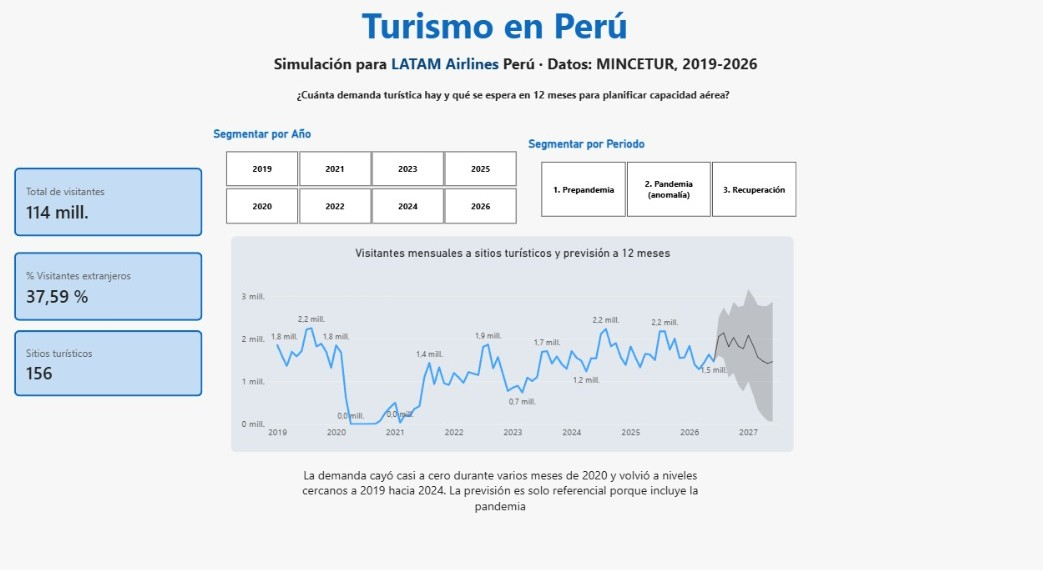

The page's visual inventory and layout, read from the dashboard file:
{"tool":"powerbi","page":{"name":"Resumen general","canvas":[1920,1080],"ordinal":0},"visuals":[{"type":"lineChart","title":"Visitantes mensuales a sitios turísticos y previsión a 12 meses","fields":{"Category":["dim_fecha.Fecha"],"Y":["Sum(Visitantes_sitios_turisticos.NUMERO_VISITANTES)"]},"box":[411.7,390,898.3,345],"z":0},{"type":"textbox","box":[620,11.7,1300,65],"z":1000},{"type":"textbox","box":[480,96.7,796.7,43.3],"z":2000},{"type":"cardVisual","fields":{"Data":["Sum(Visitantes_sitios_turisticos.NUMERO_VISITANTES)"]},"box":[65,280,301.7,110],"z":3000},{"type":"cardVisual","fields":{"Data":["Count(dim_sitio.SITIO_TURISTICO)"]},"box":[65,540,301.7,106.7],"z":4000},{"type":"slicer","title":"Segmentar por Año","fields":{"Values":["dim_fecha.Año"]},"box":[383.3,215,503.3,156.7],"z":5000},{"type":"cardVisual","fields":{"Data":["Visitantes_sitios_turisticos.% Extranjeros"]},"box":[65,415,301.7,110],"z":6000},{"type":"slicer","title":"Segmentar por Periodo","fields":{"Values":["dim_fecha.Periodo"]},"box":[886.7,231.7,446.7,128.3],"z":7000},{"type":"textbox","box":[508.3,758.3,666.7,91.7],"z":8000},{"type":"textbox","box":[516.7,151.7,696.7,45],"z":9000}]}

Visuals, with their boxes in screenshot pixels (x1, y1, x2, y2), scaled from the page's 1920x1080 canvas onto the 1043x570 screenshot:
"Visitantes mensuales a sitios turísticos y previsión a 12 meses" lineChart: region(224, 206, 712, 388)
textbox: region(337, 6, 1042, 40)
textbox: region(261, 51, 694, 74)
cardVisual - Sum(Visitantes_sitios_turisticos.NUMERO_VISITANTES): region(35, 148, 199, 206)
cardVisual - Count(dim_sitio.SITIO_TURISTICO): region(35, 285, 199, 341)
"Segmentar por Año" slicer: region(208, 113, 482, 196)
cardVisual - Visitantes_sitios_turisticos.% Extranjeros: region(35, 219, 199, 277)
"Segmentar por Periodo" slicer: region(482, 122, 724, 190)
textbox: region(276, 400, 638, 449)
textbox: region(281, 80, 659, 104)
